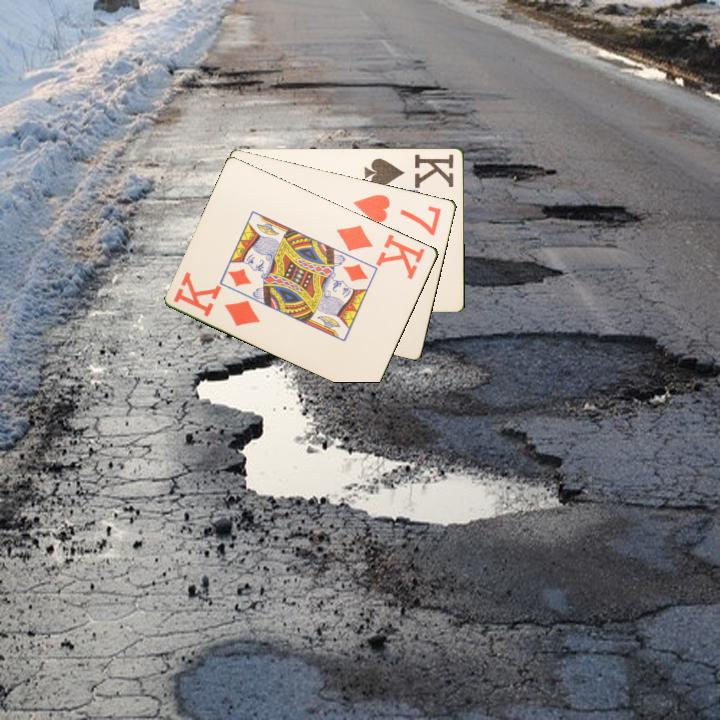7h: (350, 190, 444, 238)
Kd: (333, 221, 428, 282), (170, 269, 264, 329)
Ks: (361, 150, 457, 189)
